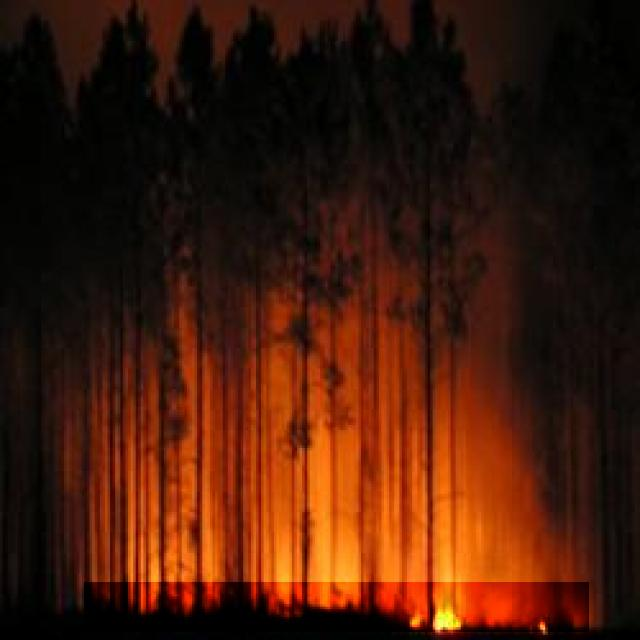Fire: (84, 582, 589, 632)
Smoke: (60, 0, 593, 568)
